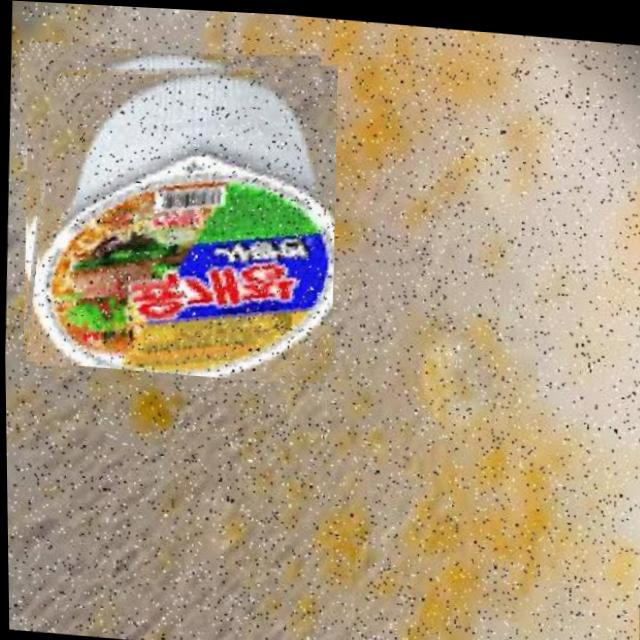Miscellaneous: (12, 32, 340, 382)
